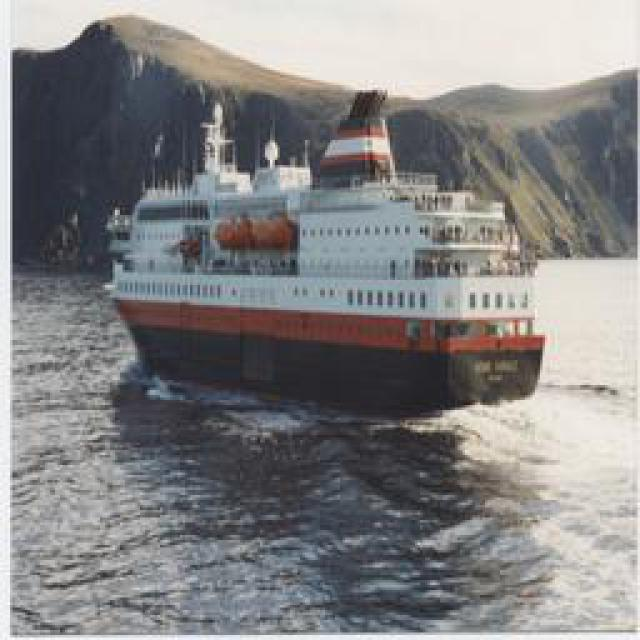Ship: (107, 88, 565, 406)
